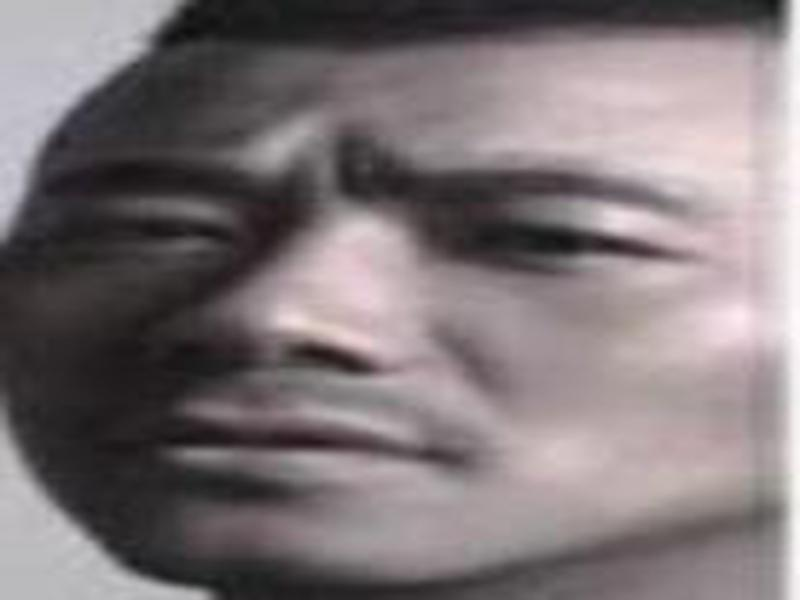without_mask: (12, 52, 737, 581)
